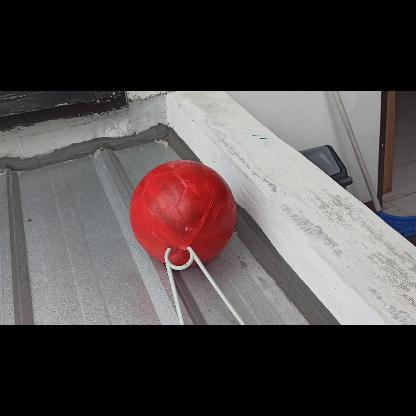red_ball: (130, 160, 236, 266)
